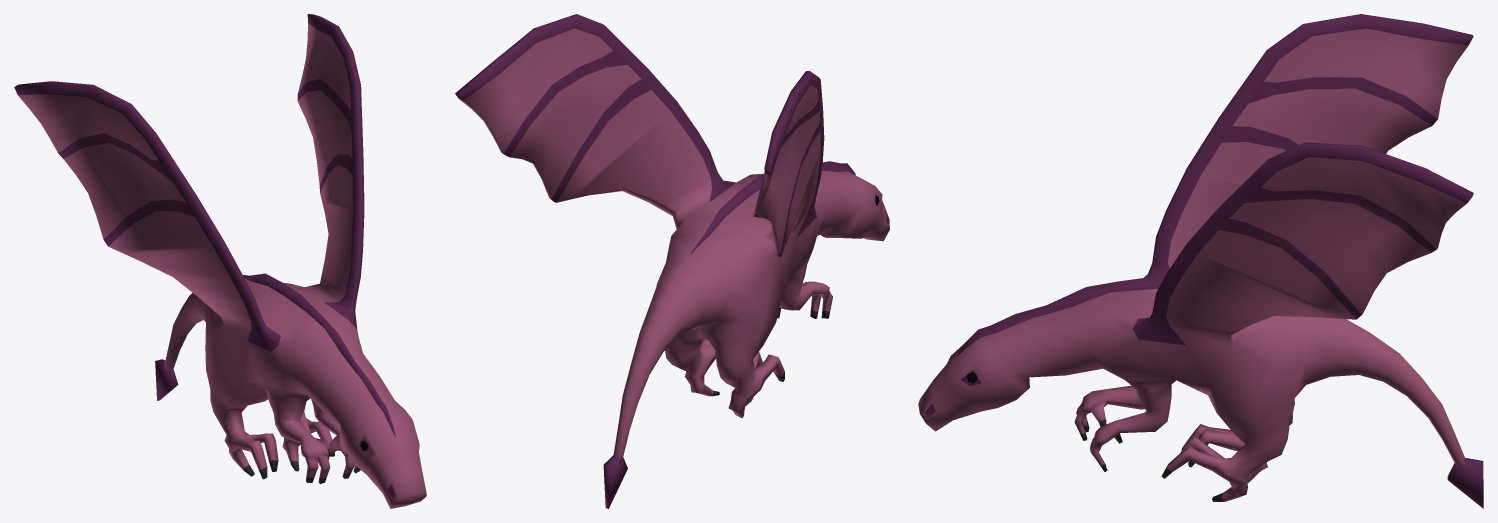
The model's file is dragon.fbx.
3 renders of one model, left to right at view 1: azimuth 30°, elevation 25°; view 2: azimuth 150°, elevation 25°; view 3: azimuth 270°, elevation 25°, orthographic. The views are drawn at different scales.
Parts seen in each view (by area): view 1: Eagle; view 2: Eagle; view 3: Eagle.
Part boxes in pixels (x1,y1,x2,y2): Eagle: [14, 14, 426, 508]; Eagle: [455, 14, 889, 508]; Eagle: [918, 14, 1483, 508].
Size of the model in its own units: 666 by 822 by 984.
